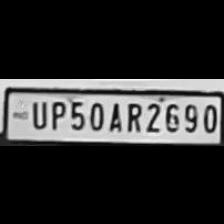0: (86, 96, 104, 130), (200, 100, 218, 132)
2: (143, 100, 161, 132)
5: (65, 97, 84, 131)
6: (162, 100, 180, 132)
9: (180, 100, 198, 132)
A: (106, 98, 122, 132)
P: (47, 96, 66, 130)
R: (122, 98, 142, 132)
U: (26, 97, 48, 129)
